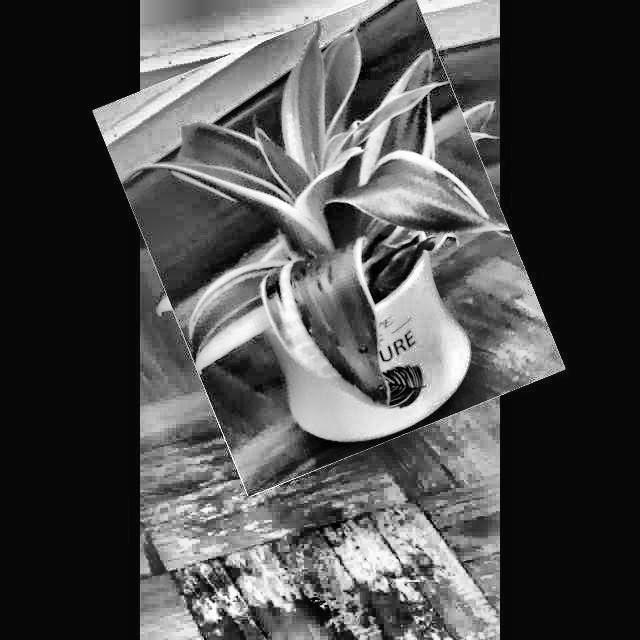plants: (125, 7, 533, 472)
